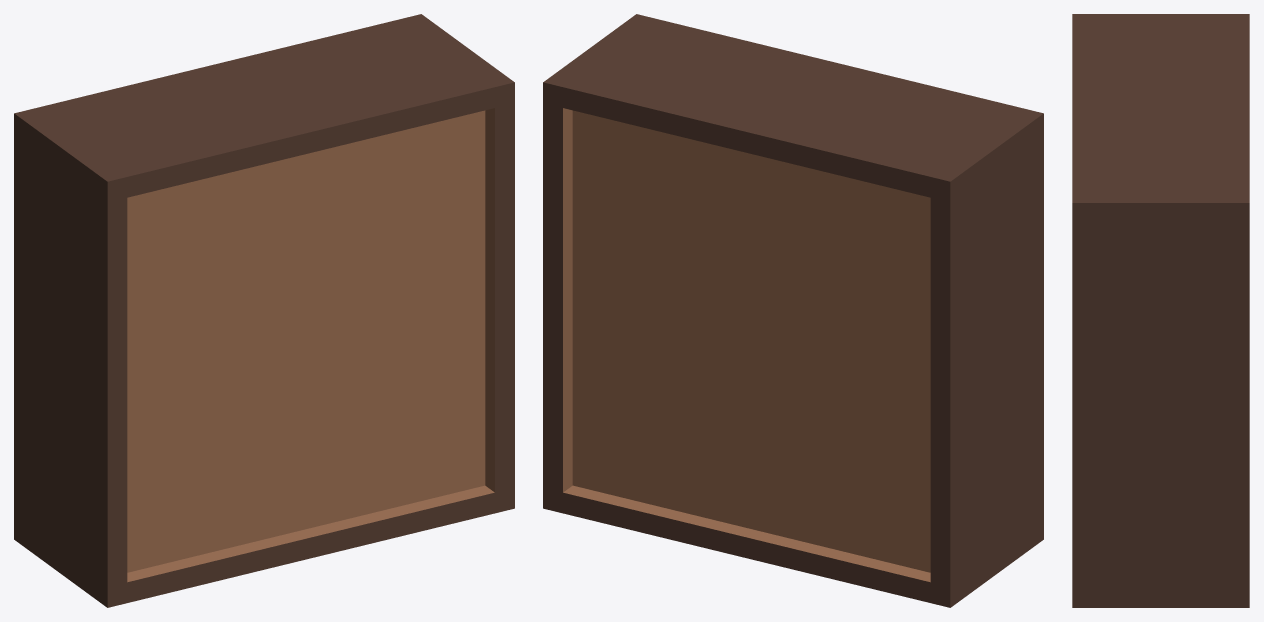
File: Caja.fbx
3 renders of one model, left to right at view 1: azimuth 30°, elevation 25°; view 2: azimuth 150°, elevation 25°; view 3: azimuth 270°, elevation 25°, orthographic. The views are drawn at different scales.
Visible parts, largest first — view 1: Cube; view 2: Cube; view 3: Cube.
Boxes of the visible parts, <box> form: Cube: <box>14,14,514,607</box>; Cube: <box>543,14,1043,607</box>; Cube: <box>1072,14,1249,607</box>.
Size of the model in its own units: 200 by 200 by 79.42.
